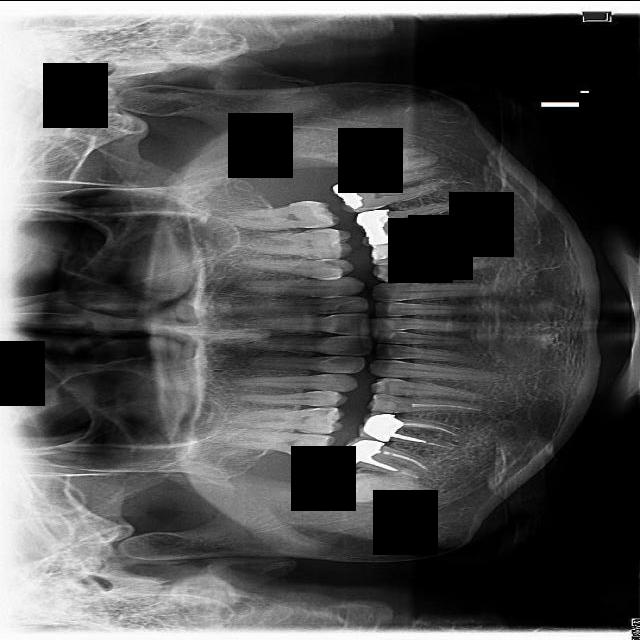71: (340, 437, 402, 472), (376, 416, 428, 442)
74: (377, 446, 429, 469), (402, 419, 458, 435), (413, 402, 484, 410), (428, 441, 453, 450), (400, 469, 422, 477)
NucleOSS Implant: (353, 198, 404, 254), (330, 174, 369, 213)
Sterngold Implant: (306, 406, 335, 425), (322, 258, 352, 271), (325, 238, 341, 254)
Straumann Implant: (370, 241, 405, 261), (371, 396, 399, 413)
Zimmer Implant: (331, 424, 385, 478), (357, 407, 404, 446)
